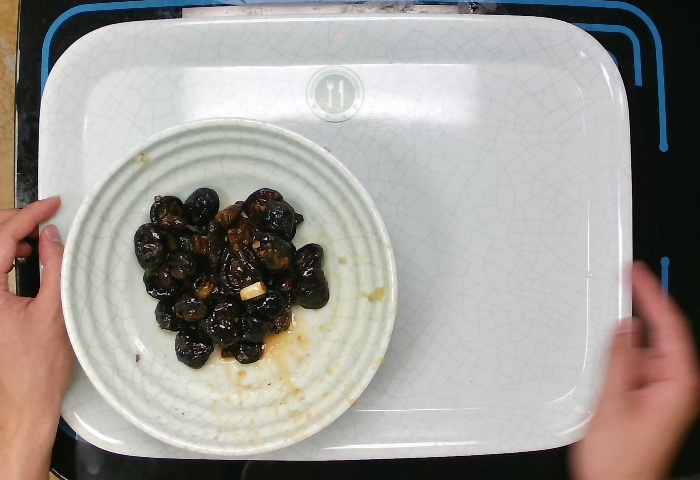JYsf-Da_Tang_Wan: (53, 111, 405, 463)
